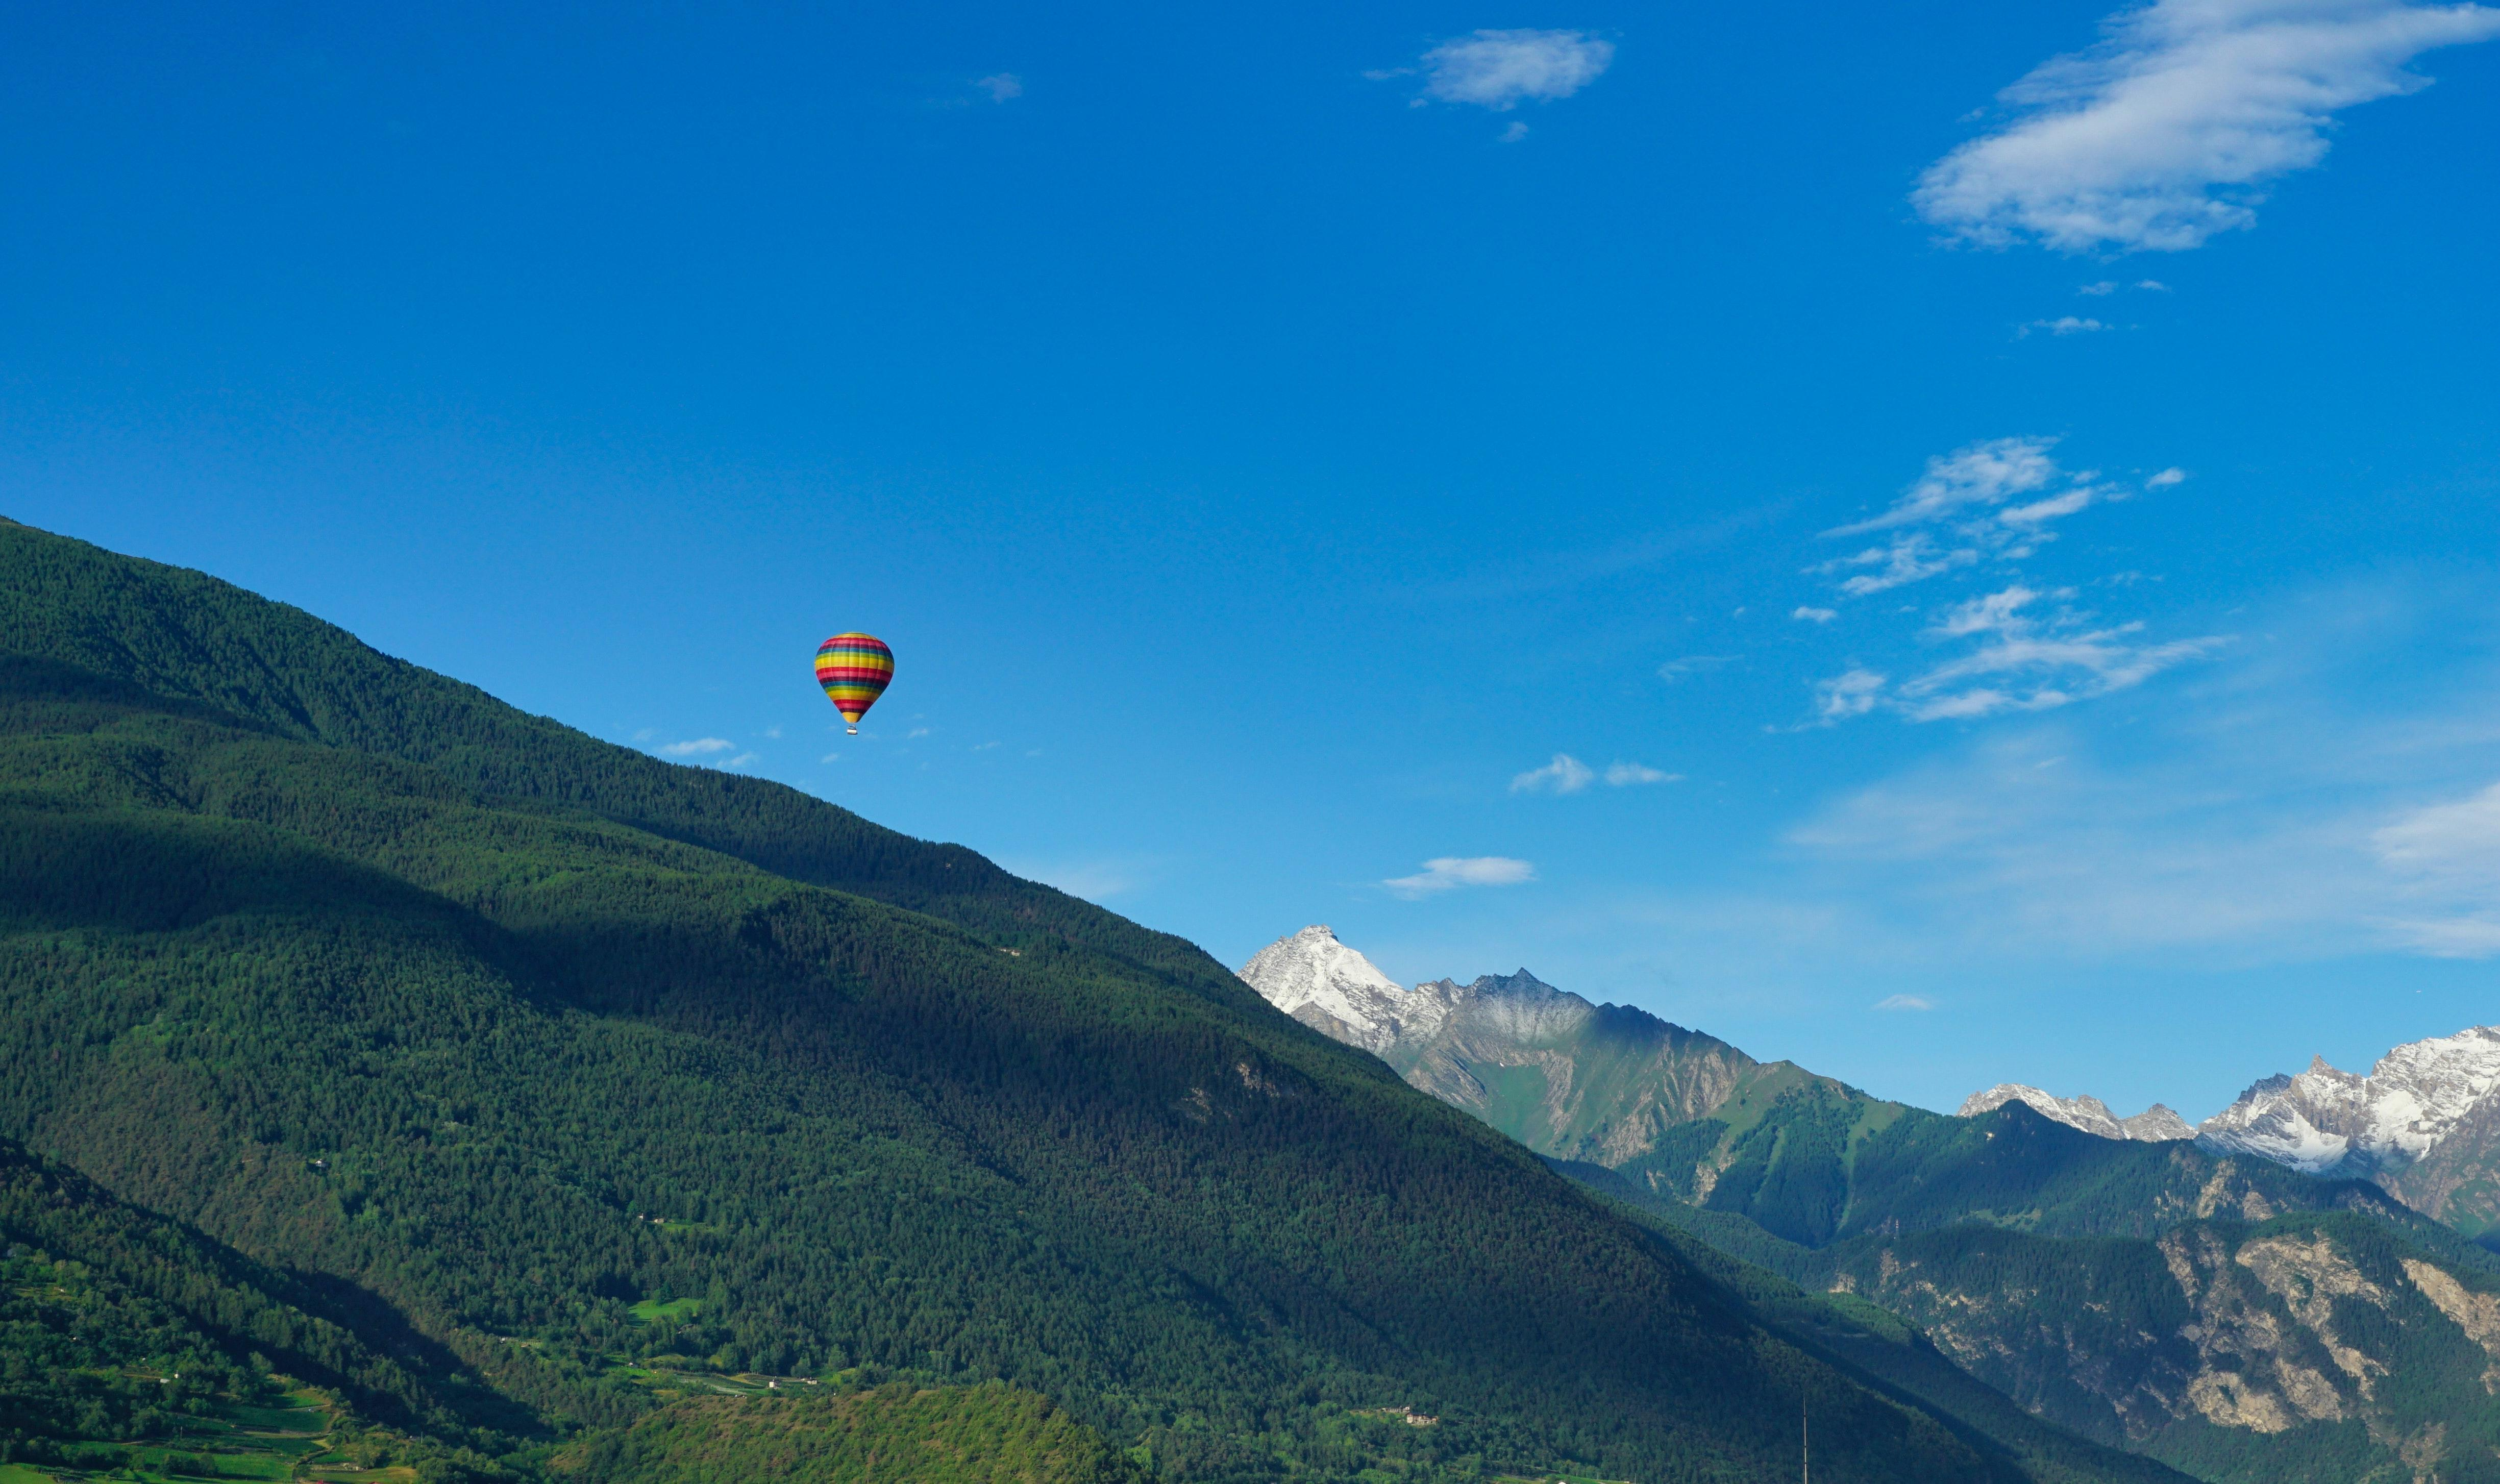hot air ballon: (814, 632, 896, 735)
